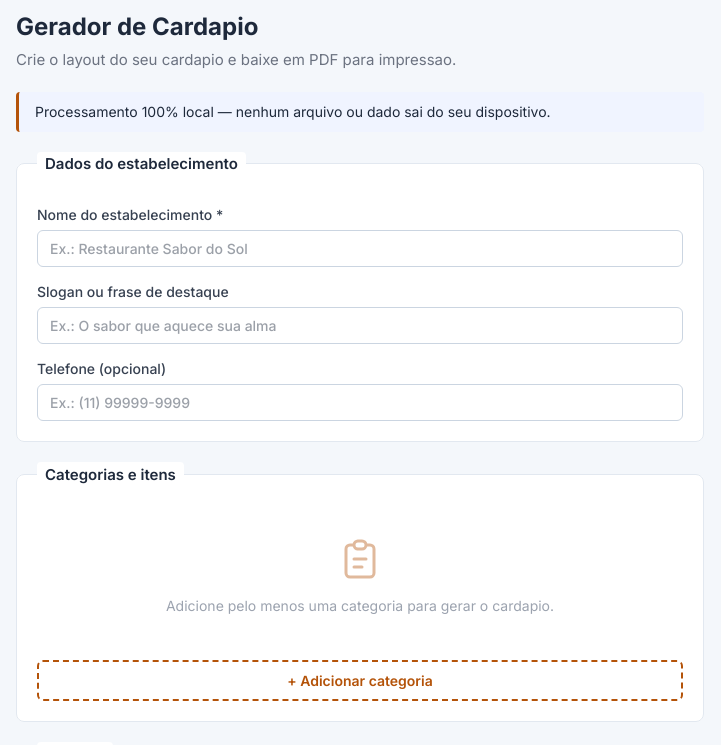
Test: MenuBuilderTool — regressao › clicar em "Adicionar categoria" exibe input de nome
Click the button "+ Adicionar categoria": (360, 680) [37,660,683,701]
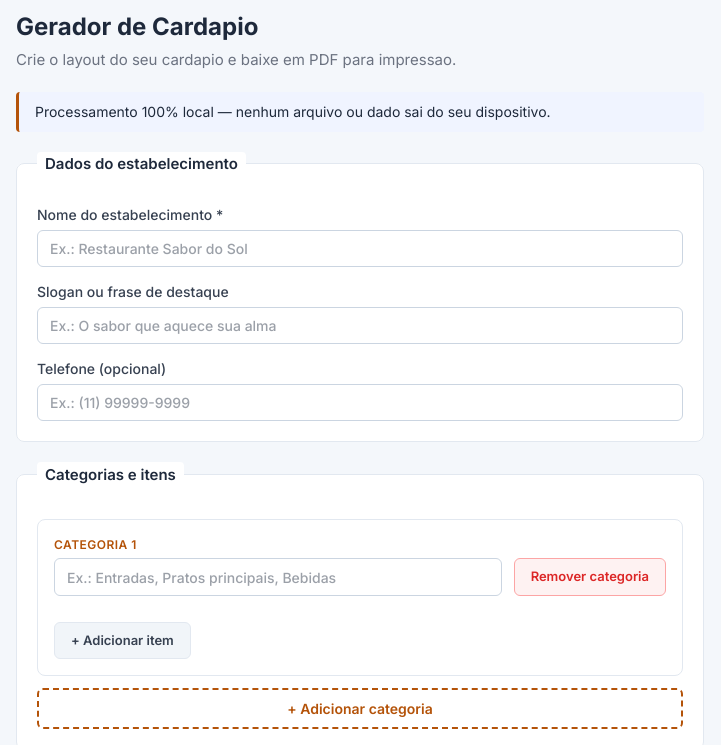
Check: the field named "Nome da categoria 1" is shown, box [54,558,502,596]
